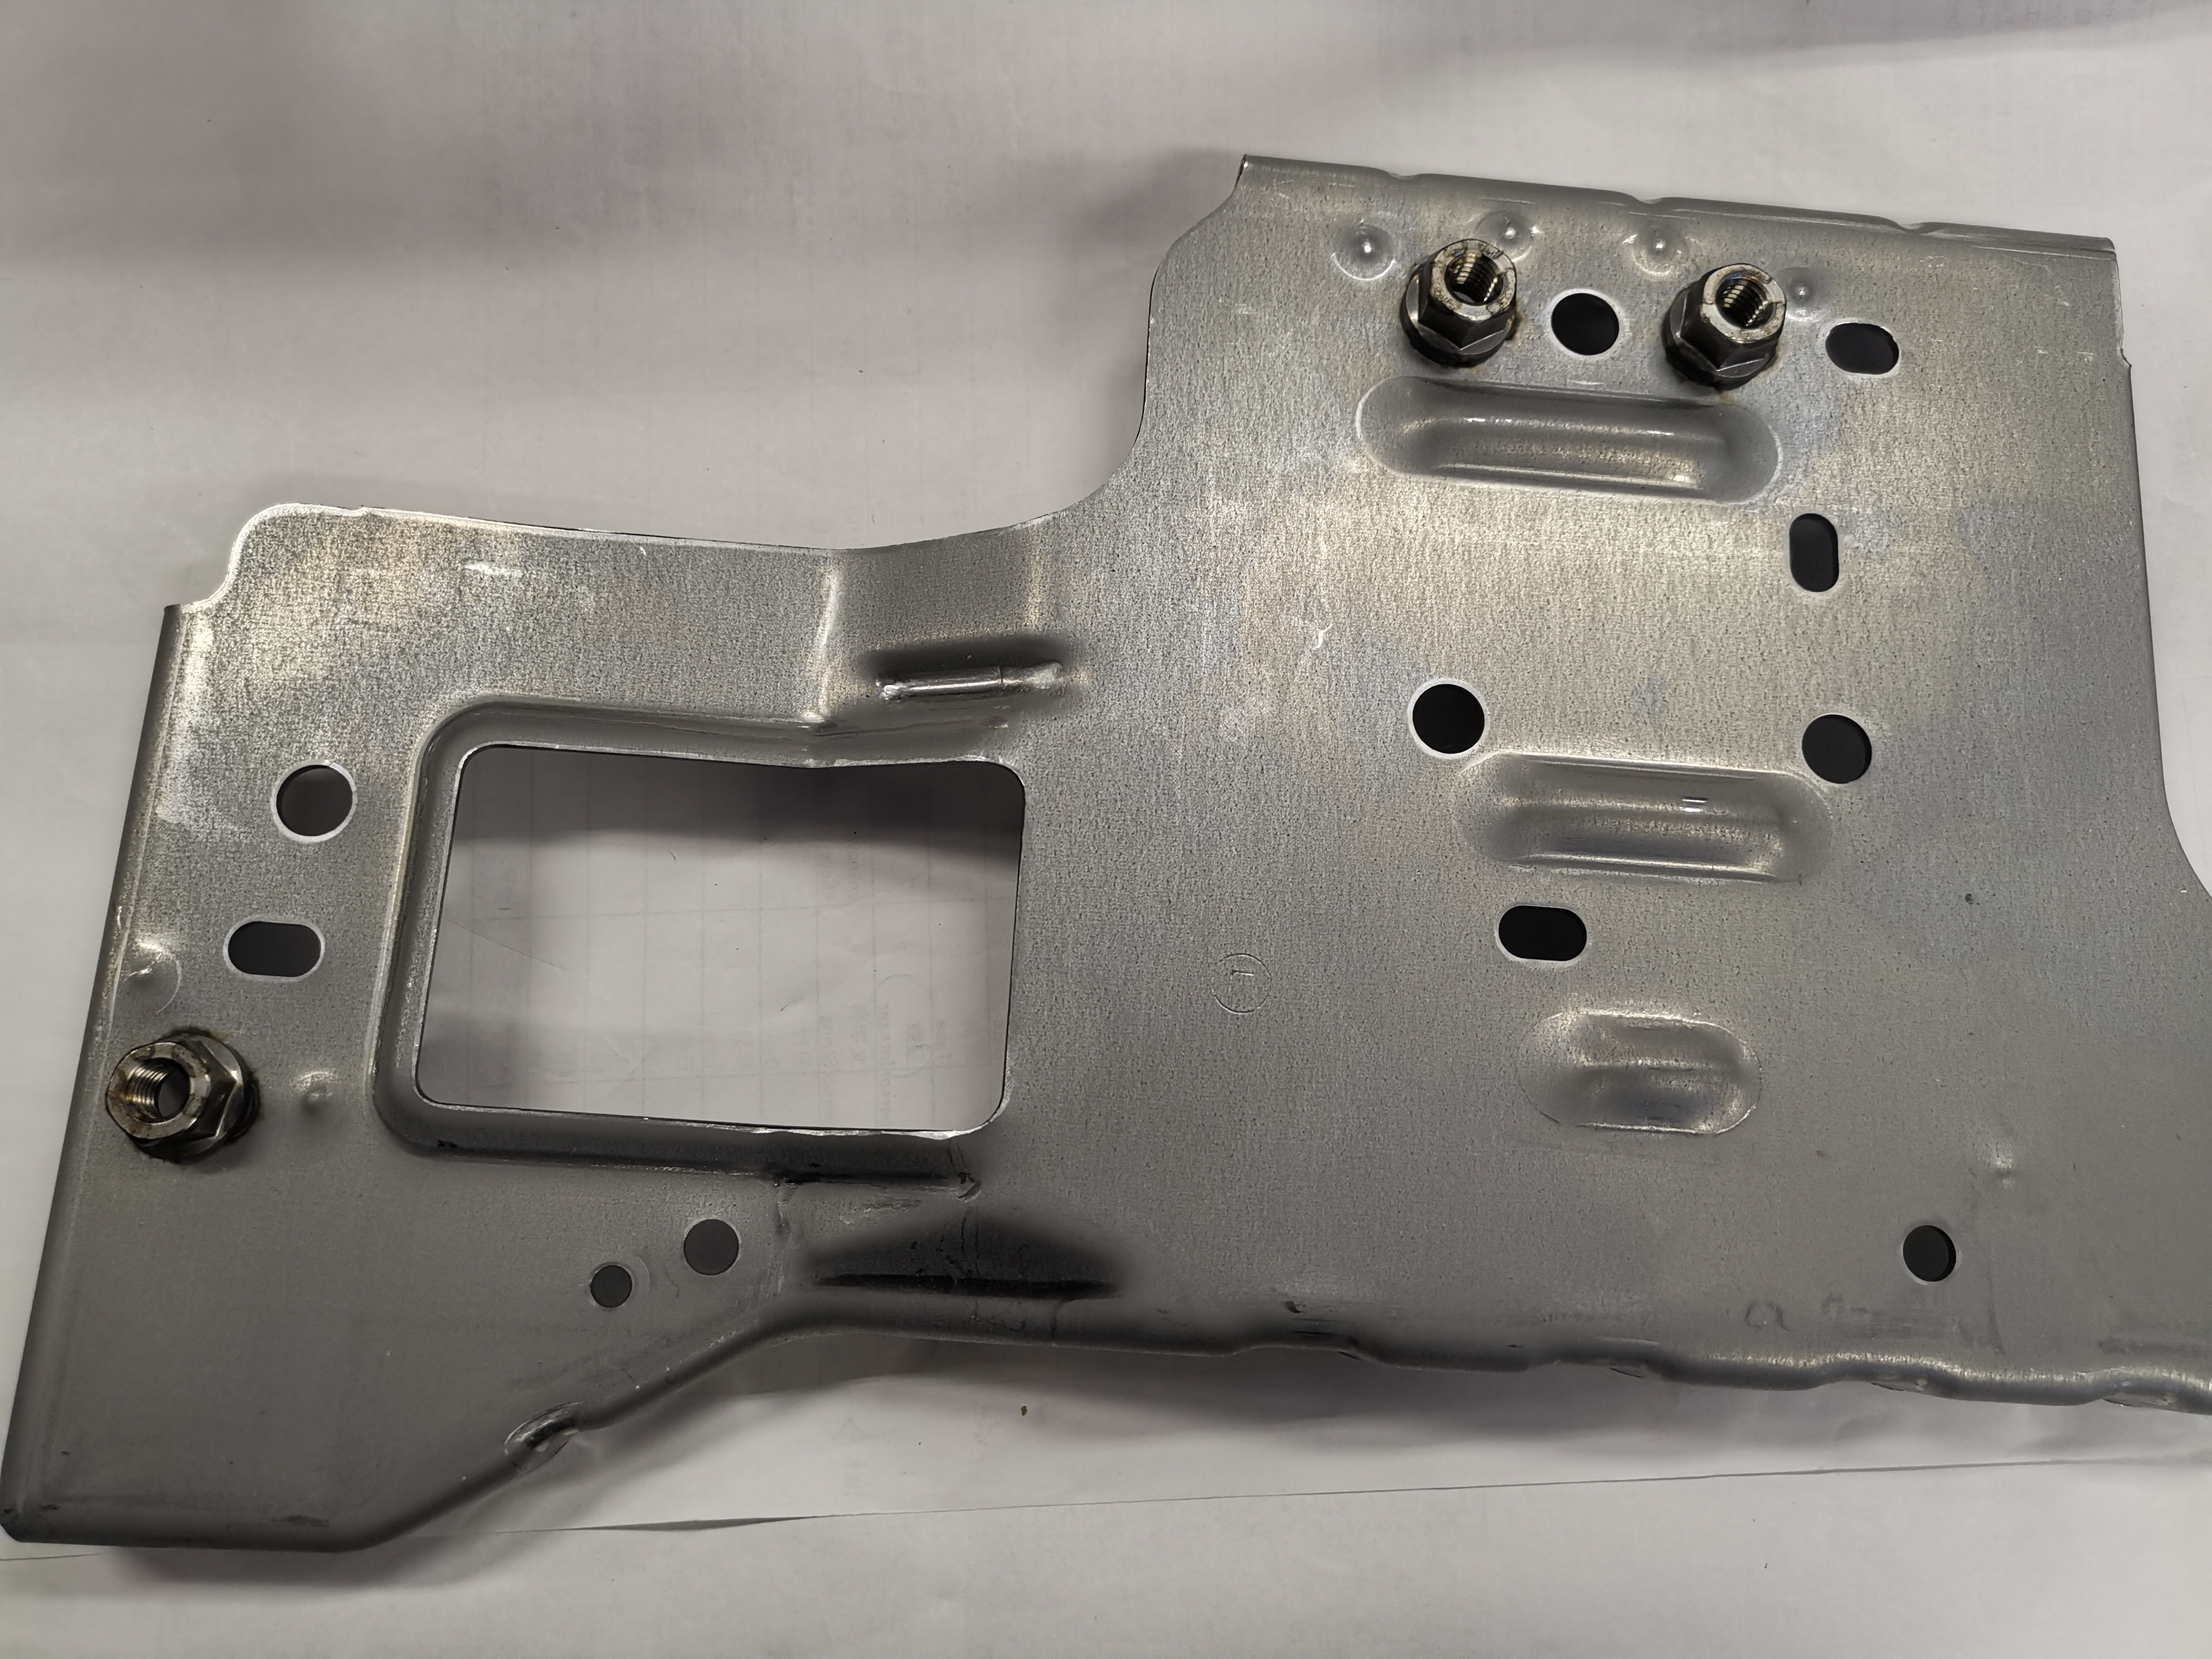dog: (98, 1025, 260, 1171), (1397, 235, 1522, 371), (1662, 260, 1785, 394)
